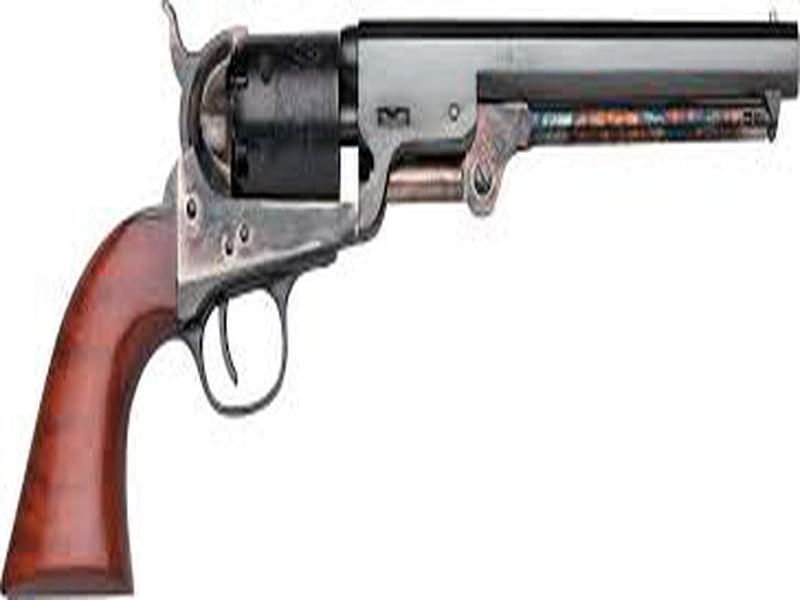gun: (5, 2, 800, 599)
